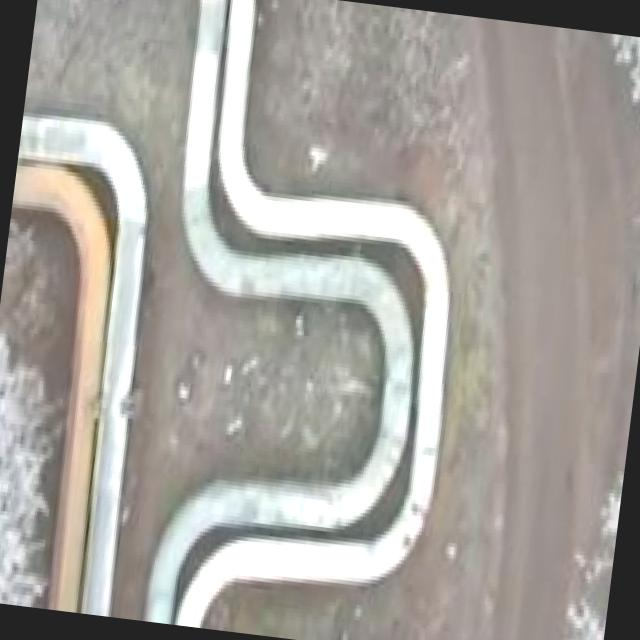gas: (179, 0, 449, 627), (148, 0, 413, 624), (17, 116, 146, 613), (13, 163, 109, 613)
